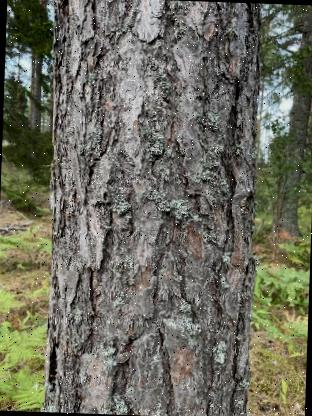tree: (29, 0, 280, 416)
